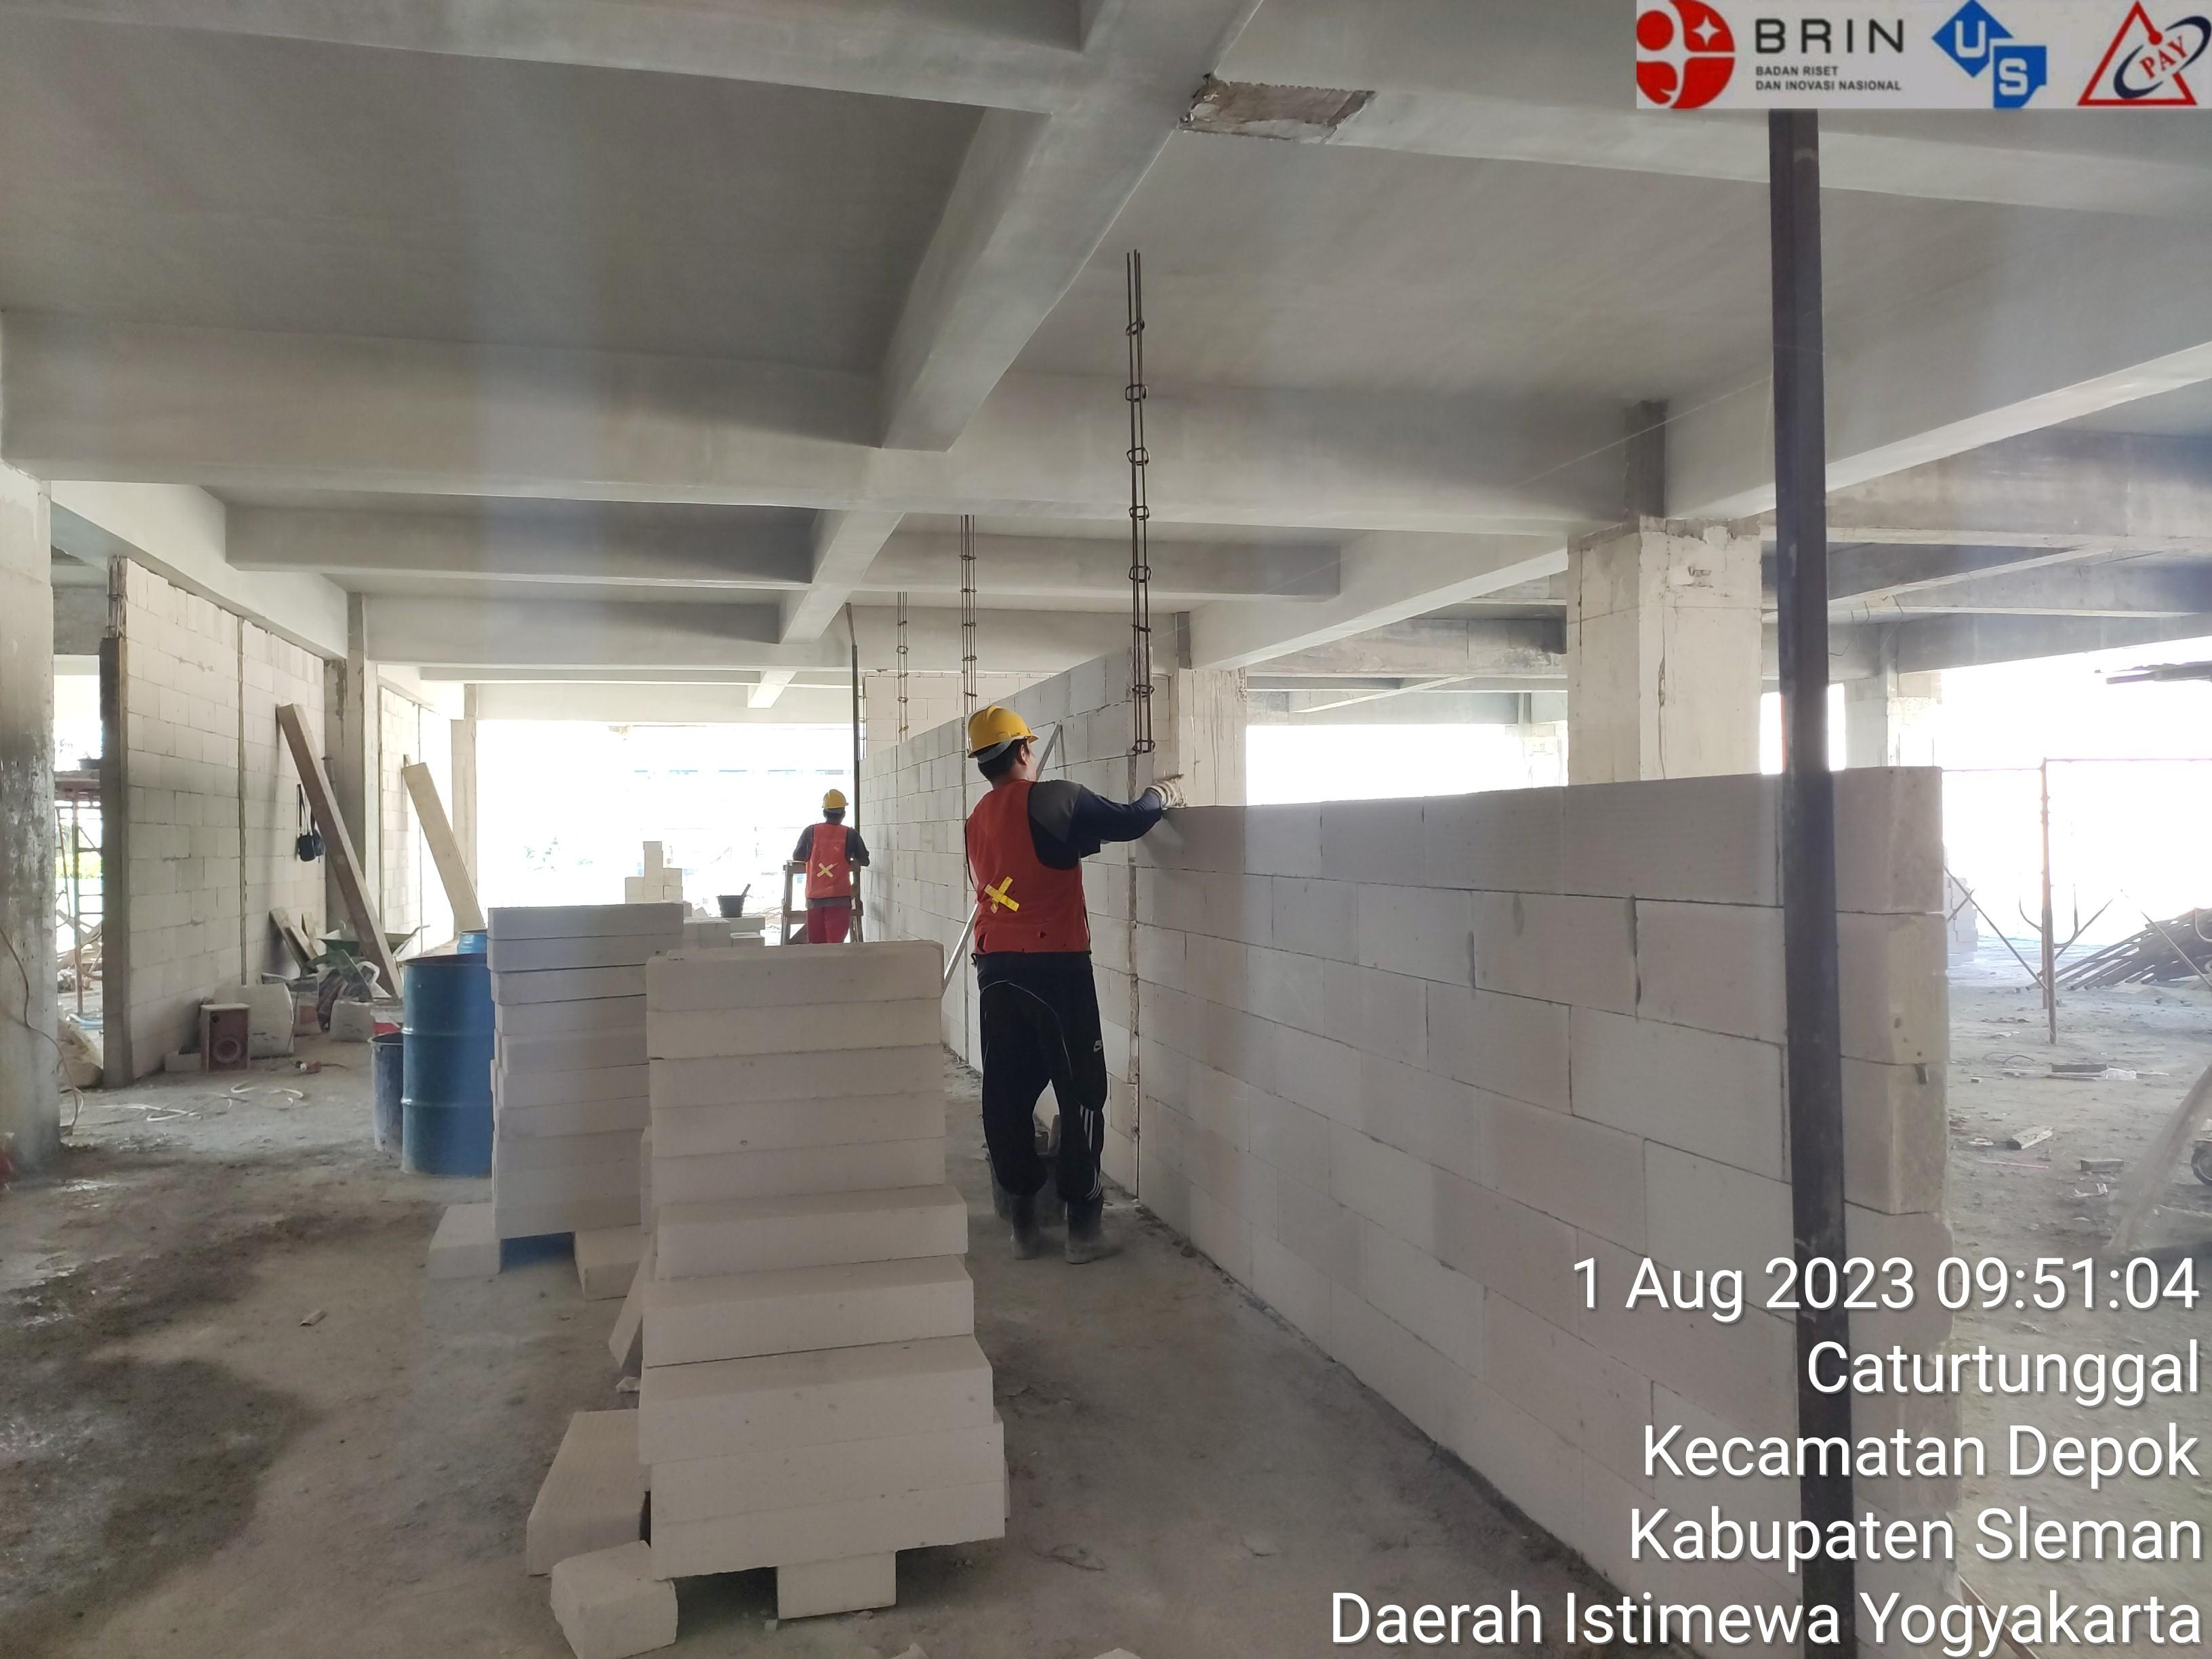hat: (932, 681, 1064, 788), (798, 753, 871, 835)
vest: (954, 775, 1109, 976), (782, 819, 867, 922)
